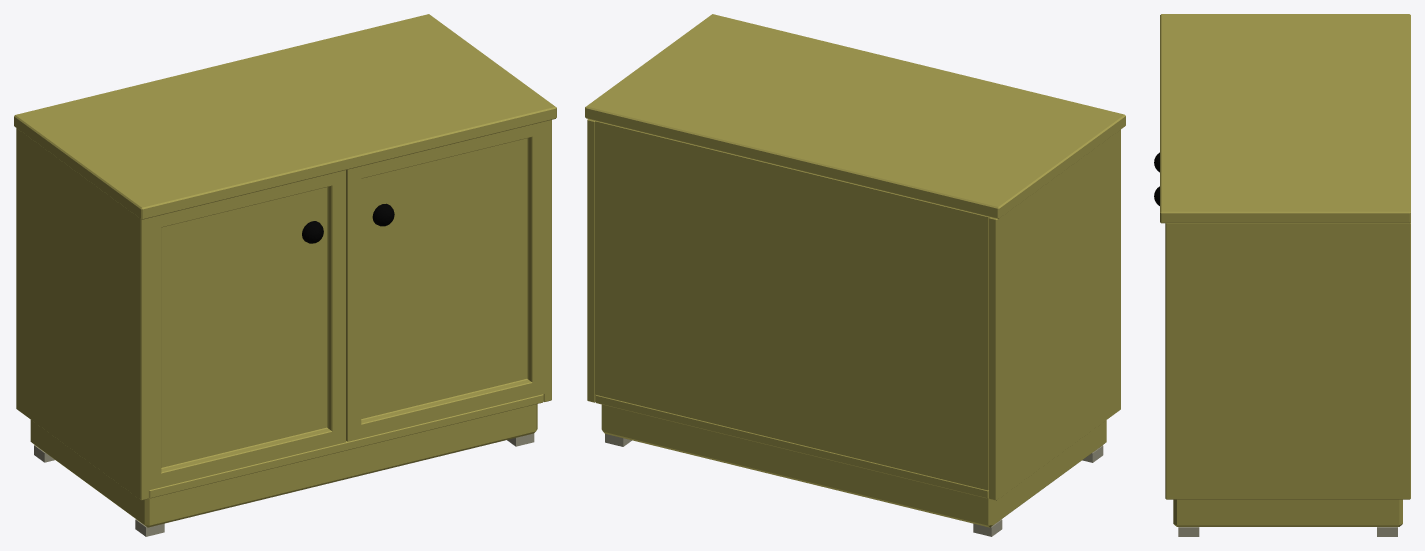
Rendered from escritorio.fbx.
3 renders of one model, left to right at view 1: azimuth 30°, elevation 25°; view 2: azimuth 150°, elevation 25°; view 3: azimuth 270°, elevation 25°, orthographic. The views are drawn at different scales.
Visible parts, largest first — view 1: pCube7; view 2: pCube7; view 3: pCube7.
Part boxes in pixels (x1,y1,x2,y2): pCube7: (14,14,556,536); pCube7: (585,14,1125,536); pCube7: (1154,14,1410,536).
Size of the model in its own units: 90 by 70 by 49.16.
